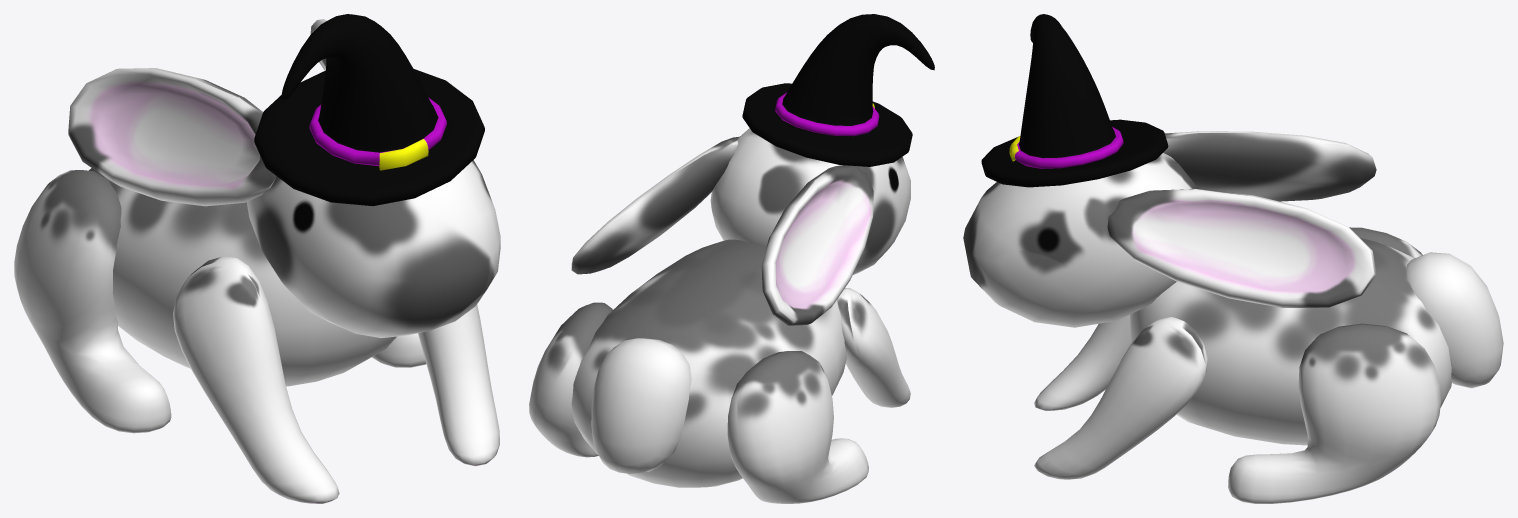
The model's file is Conejo.fbx.
3 views of the same model, side by side, from view 1: azimuth 30°, elevation 25°; view 2: azimuth 150°, elevation 25°; view 3: azimuth 270°, elevation 25° (orthographic). The views are drawn at different scales.
Parts seen in each view (by area): view 1: Cabeza, Sombrero, PatasDelanteras, PatasTraseras, Oreja, Cuerpo; view 2: Cuerpo, PatasTraseras, Oreja, Sombrero, Cabeza, Cola, PatasDelanteras; view 3: Oreja, PatasTraseras, Cuerpo, Cabeza, PatasDelanteras, Sombrero, Cola.
Part boxes in pixels (<box>): Cabeza: <box>246,160,500,338</box>; Sombrero: <box>254,14,484,206</box>; PatasDelanteras: <box>173,256,499,503</box>; PatasTraseras: <box>14,170,426,433</box>; Oreja: <box>68,19,326,206</box>; Cuerpo: <box>89,168,396,386</box>; Cuerpo: <box>571,239,846,487</box>; PatasTraseras: <box>529,302,868,503</box>; Oreja: <box>571,136,873,325</box>; Sombrero: <box>742,14,934,166</box>; Cabeza: <box>710,128,910,274</box>; Cola: <box>591,338,691,473</box>; PatasDelanteras: <box>837,288,910,407</box>; Oreja: <box>1107,131,1376,307</box>; PatasTraseras: <box>1228,227,1440,503</box>; Cuerpo: <box>1130,238,1451,445</box>; Cabeza: <box>963,153,1198,327</box>; PatasDelanteras: <box>1034,314,1207,479</box>; Sombrero: <box>981,14,1168,187</box>; Cola: <box>1406,252,1503,388</box>.
Size of the model in its own units: 239 by 314 by 386.
1 material, 1 textured.
